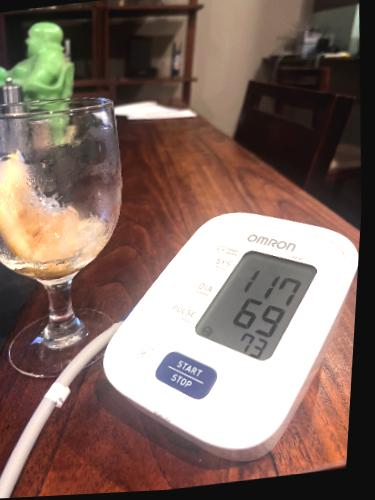bpm: (189, 230, 321, 368)
